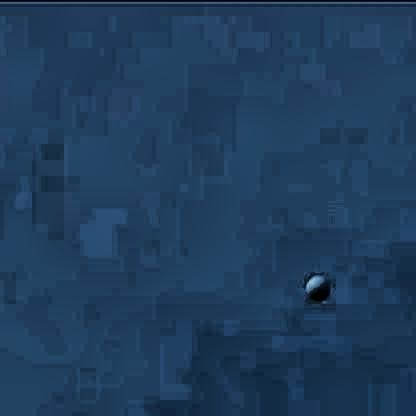golfball: (302, 267, 326, 297)
